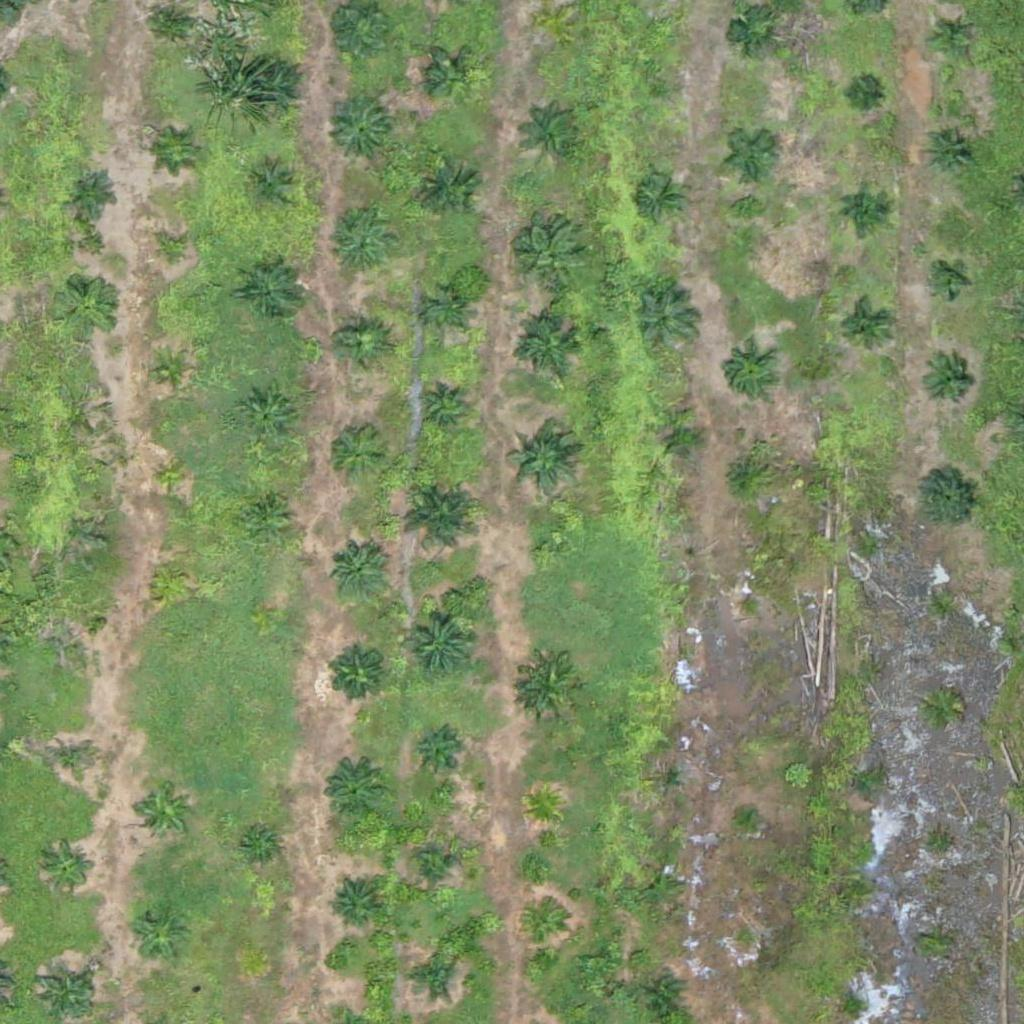Kelapa_Sawit: (398, 473, 485, 561), (506, 424, 581, 500), (401, 604, 476, 679), (126, 904, 189, 967), (324, 422, 387, 485), (329, 215, 392, 278), (327, 539, 390, 602), (635, 288, 698, 351), (916, 464, 979, 527), (518, 656, 581, 719), (242, 258, 305, 321), (133, 781, 196, 844), (238, 388, 301, 451), (243, 58, 306, 121), (328, 99, 390, 162), (321, 759, 383, 822), (325, 642, 387, 705), (418, 159, 480, 222), (518, 316, 580, 379), (520, 226, 583, 288), (526, 104, 588, 167), (57, 276, 119, 339), (42, 842, 92, 893), (327, 880, 377, 931), (838, 301, 888, 352), (922, 355, 972, 406), (404, 950, 454, 1001), (247, 162, 297, 213), (656, 414, 706, 465), (718, 449, 768, 500), (46, 736, 96, 787), (336, 321, 386, 371), (408, 730, 458, 780), (840, 184, 890, 234), (728, 129, 778, 179), (428, 51, 478, 101), (635, 172, 685, 222), (723, 347, 773, 397), (241, 489, 291, 539), (730, 9, 780, 59), (926, 12, 976, 62), (925, 126, 975, 176), (409, 844, 459, 894), (67, 167, 117, 217), (417, 382, 466, 433), (161, 132, 199, 170), (929, 261, 967, 299), (524, 787, 562, 825), (646, 976, 684, 1014), (526, 909, 564, 947), (642, 867, 680, 905), (154, 233, 192, 271), (152, 352, 190, 390), (154, 459, 192, 497), (150, 559, 188, 597), (241, 830, 279, 868), (427, 291, 464, 329), (651, 761, 688, 799), (57, 611, 94, 649), (156, 4, 193, 41), (850, 81, 875, 106), (649, 74, 674, 99), (544, 12, 569, 37), (736, 801, 761, 826), (733, 592, 758, 617), (534, 539, 559, 564)
